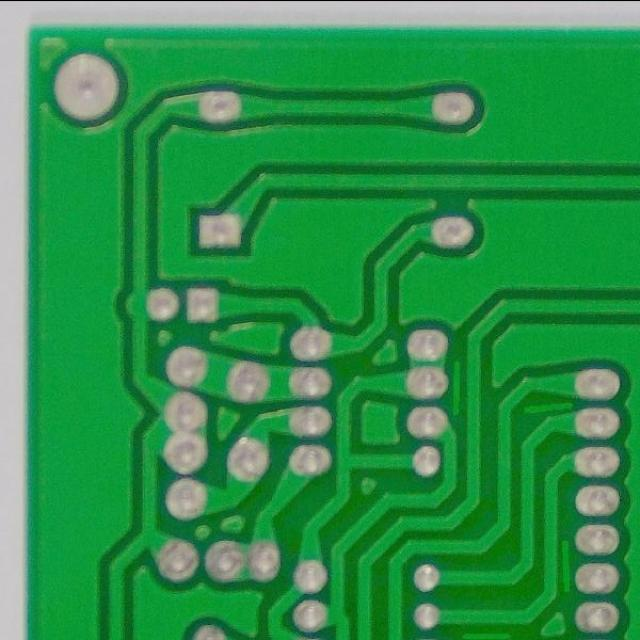Spurious_Cooper: (447, 355, 467, 419), (517, 397, 577, 417), (557, 534, 576, 596), (456, 627, 518, 640)
